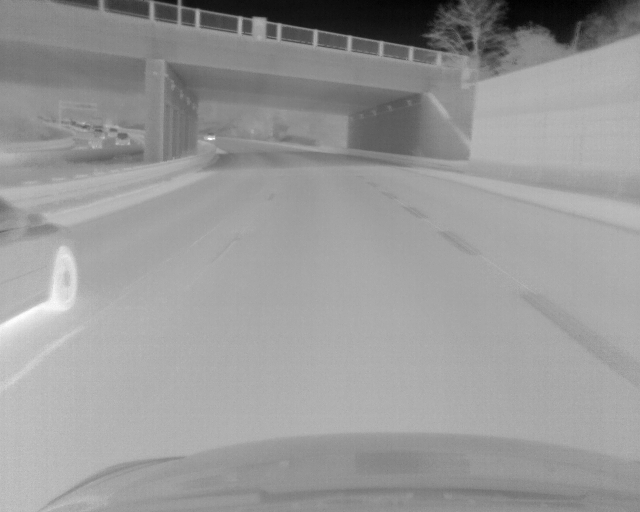car: (1, 189, 79, 331), (72, 131, 102, 150), (115, 132, 131, 145), (107, 127, 118, 137), (203, 133, 216, 141)
